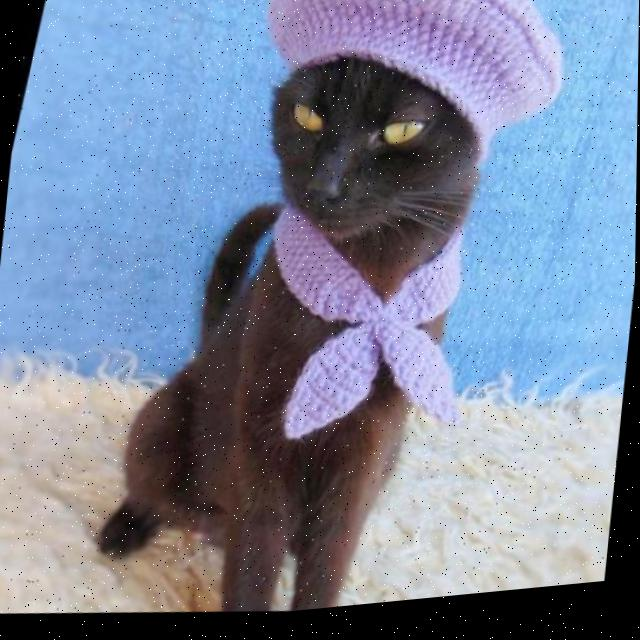Cats: (37, 0, 536, 637)
